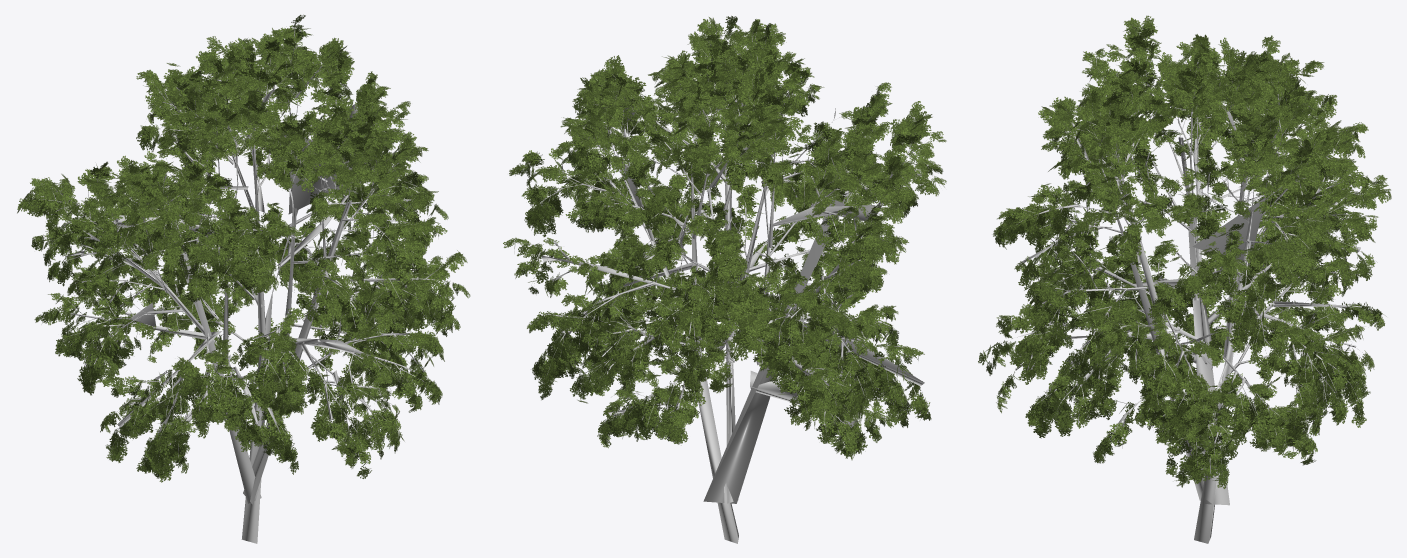
The model's file is ash_1.gltf.
3 views of the same model, side by side, from view 1: azimuth 30°, elevation 25°; view 2: azimuth 150°, elevation 25°; view 3: azimuth 270°, elevation 25° (orthographic). The views are drawn at different scales.
Parts seen in each view (by area): view 1: LOD0; view 2: LOD0; view 3: LOD0.
Boxes of the visible parts, left/top/right/bottom form: LOD0: left=17, top=15, right=470, bottom=543; LOD0: left=503, top=16, right=946, bottom=543; LOD0: left=978, top=15, right=1391, bottom=543.
Size of what is drawn, in the model's own units: 15.56 by 18.7 by 13.89.
